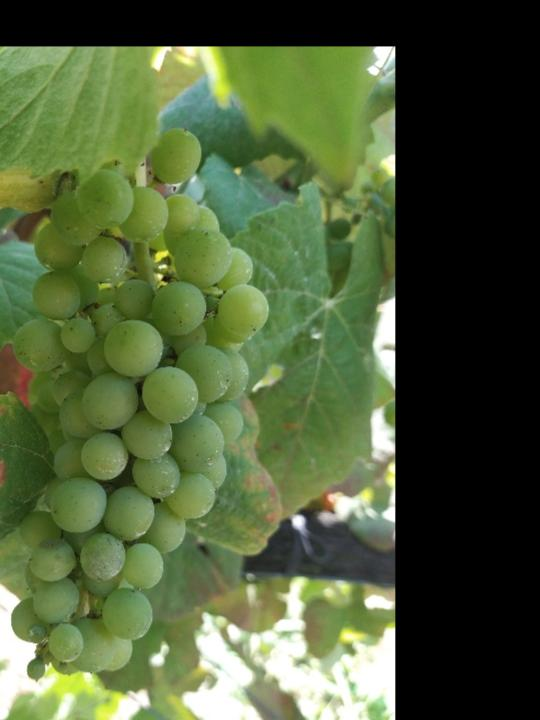grape: (9, 121, 271, 684)
